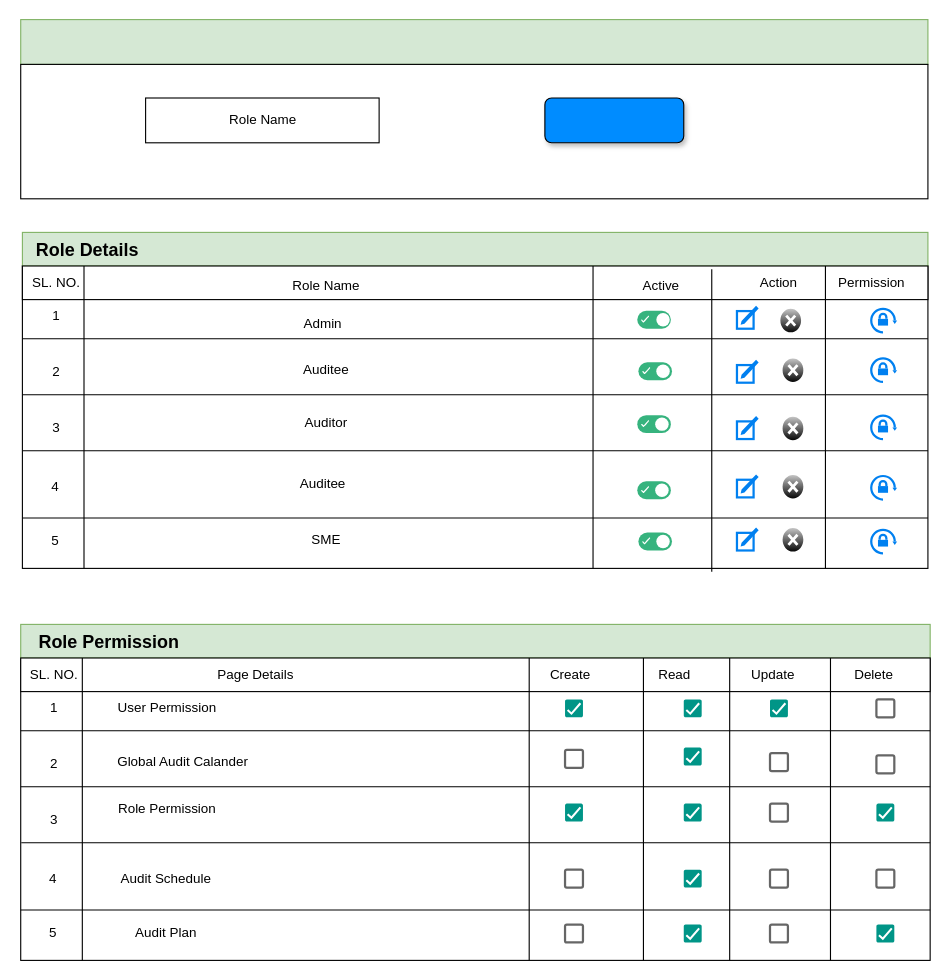
The diagram is 950 pixels wide and 980 high, and some of its shapes have lost their labels. Each missing label, with the centre of its shape:
"Role Create" belongs at [474,41].
"Save" belongs at [614,121].
